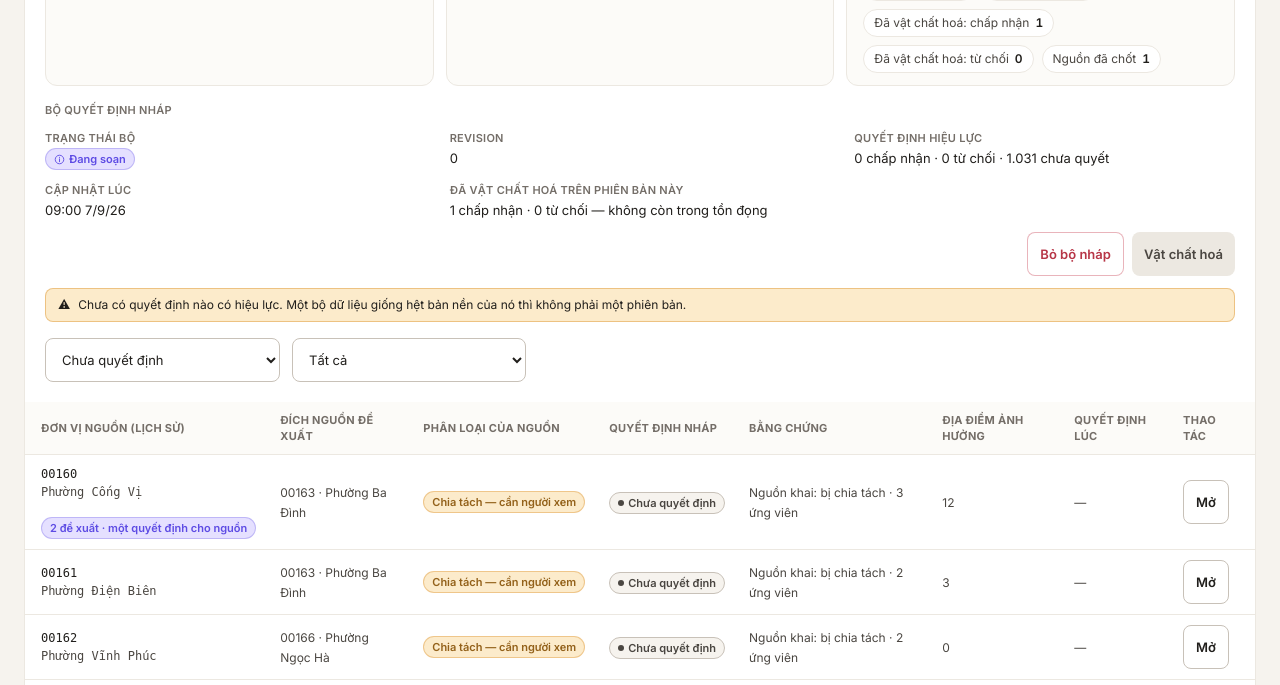
Test: the queue list › defaults to the actionable rows and keeps the filter in the URL
(page scrolled)
Select "Nháp: chấp nhận" in the dropdown named "Trạng thái quyết định": (162, 360) top-left (45, 338), bottom-right (280, 382)
(page scrolled)
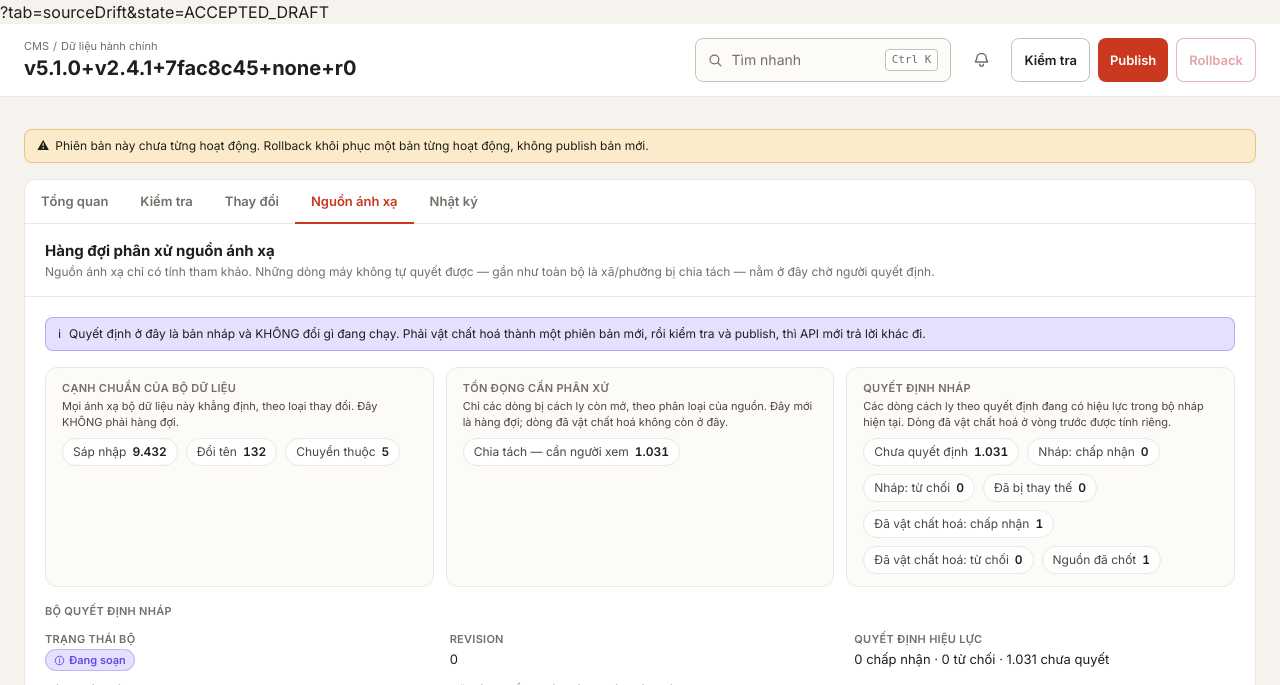
Expected: the text with test id "search" shows "state=ACCEPTED_DRAFT", top-left (0, 2), bottom-right (329, 22)
